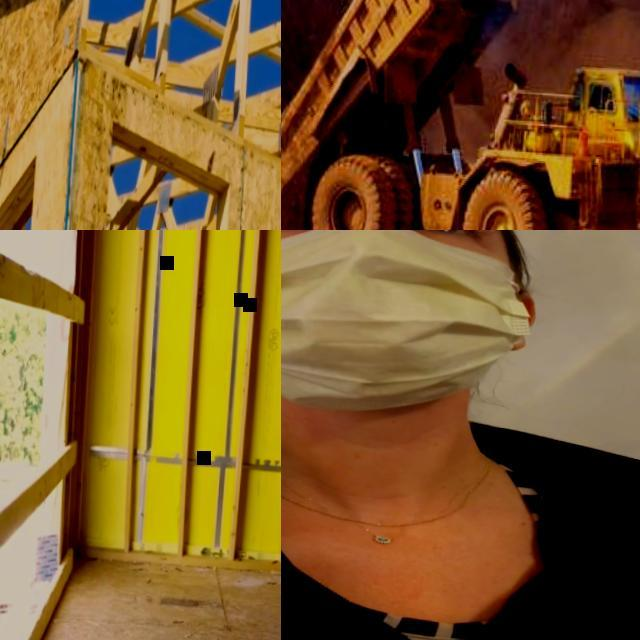machinery: (281, 0, 640, 230)
mask: (281, 230, 541, 418)
no_vest: (281, 403, 640, 640)
person: (281, 230, 640, 640)
